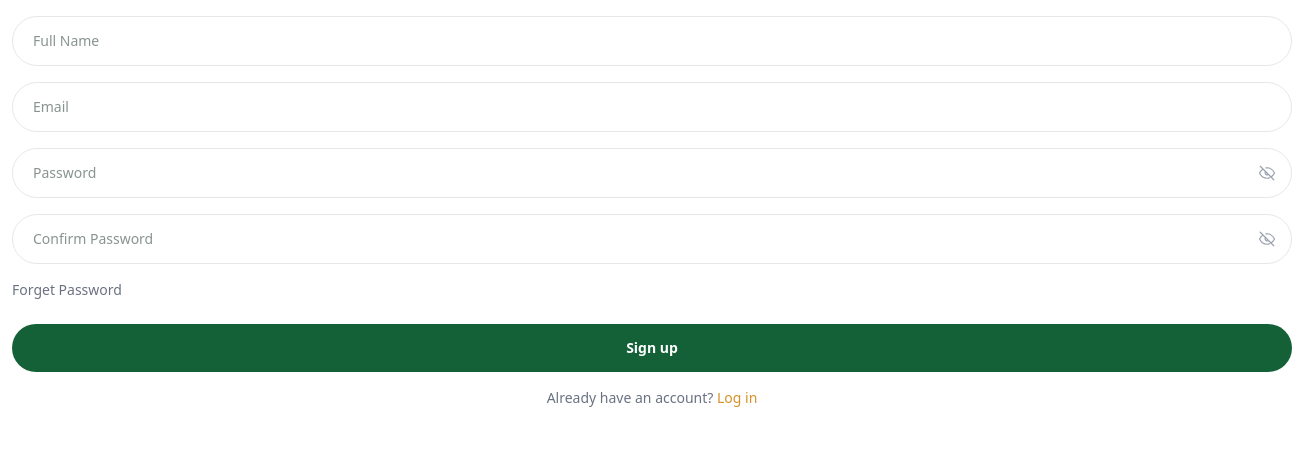
SignUpForm › refuses a throwaway address before it reaches signUp
Type "Jane Doe" into the field with placeholder "Full Name".
click(652, 41); type("Jane Doe")  # box [12,16,1292,66]
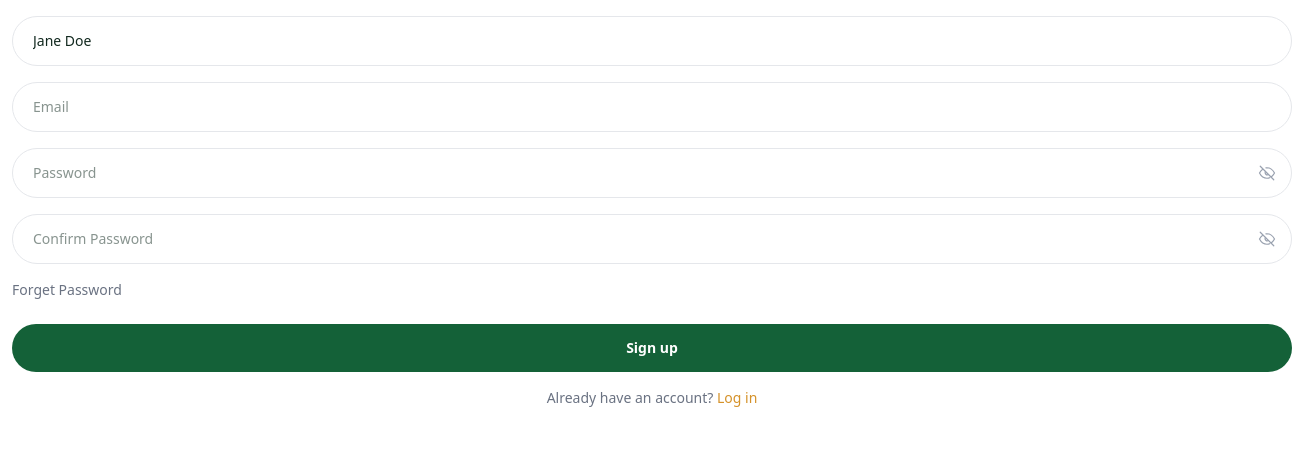
Type "jane@mailinator.com" into the field with placeholder "Email".
click(652, 107); type("jane@mailinator.com")  # box [12,82,1292,132]
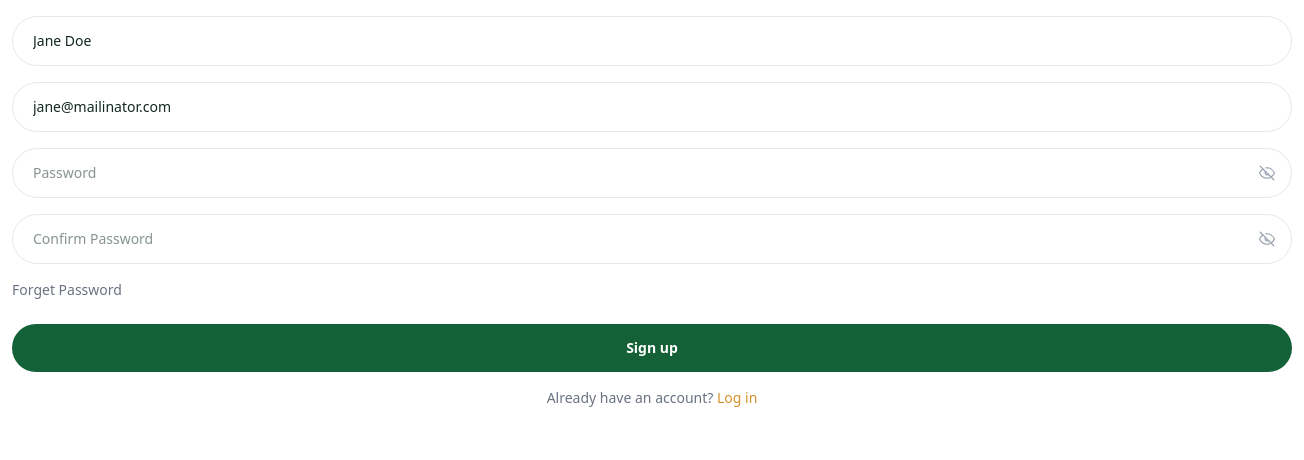
Type "Password1" into the password field with placeholder "Password".
click(652, 173); type("Password1")  # box [12,148,1292,198]
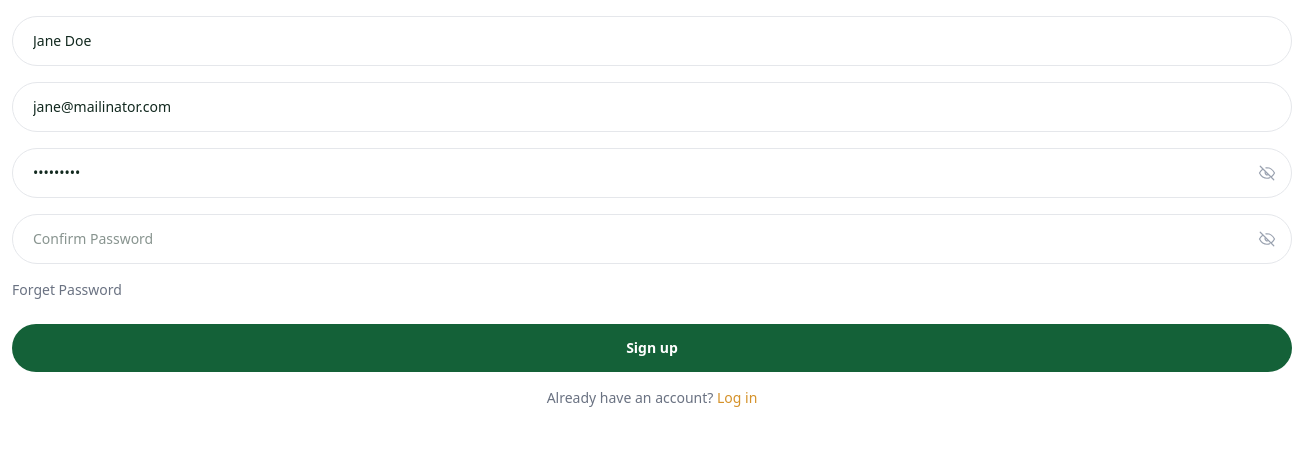
Type "Password1" into the password field with placeholder "Confirm Password".
click(652, 239); type("Password1")  # box [12,214,1292,264]
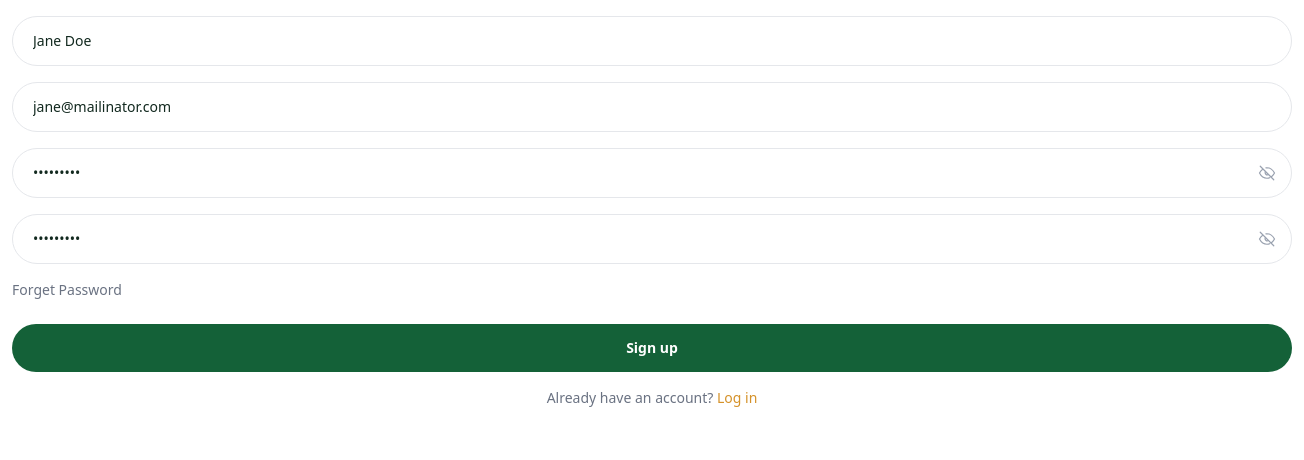
Click the button "Sign up".
click(652, 348)  # box [12,324,1292,372]
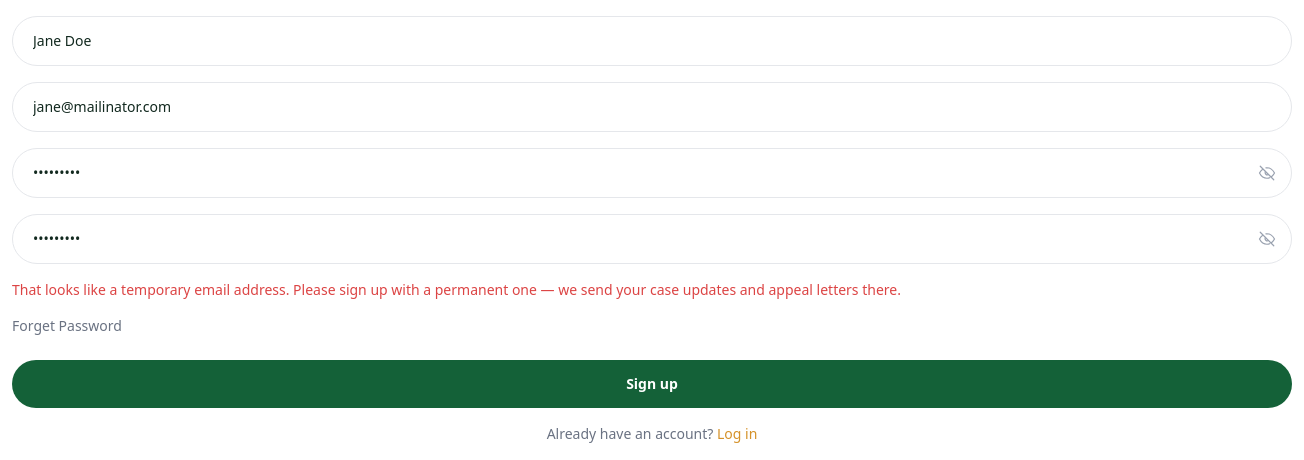
Check: the text "temporary email address" is shown, box [12,280,901,299]
